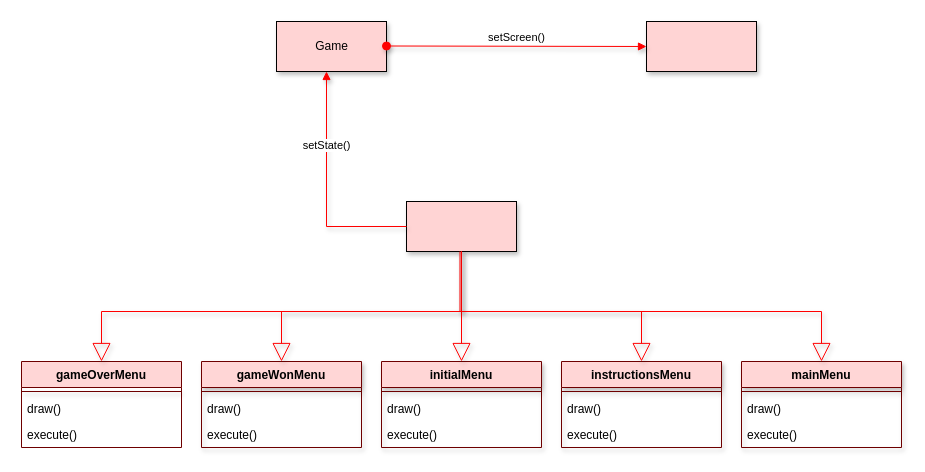
Image size: 925x472. Some labels were removed from this diagram. The shapes that lost their labels are listed below. From the top down, each one's centre as x and y in pixels, then its label:
At point (702, 47): "TerminalBuilder".
At point (462, 227): "( interface ) State".
